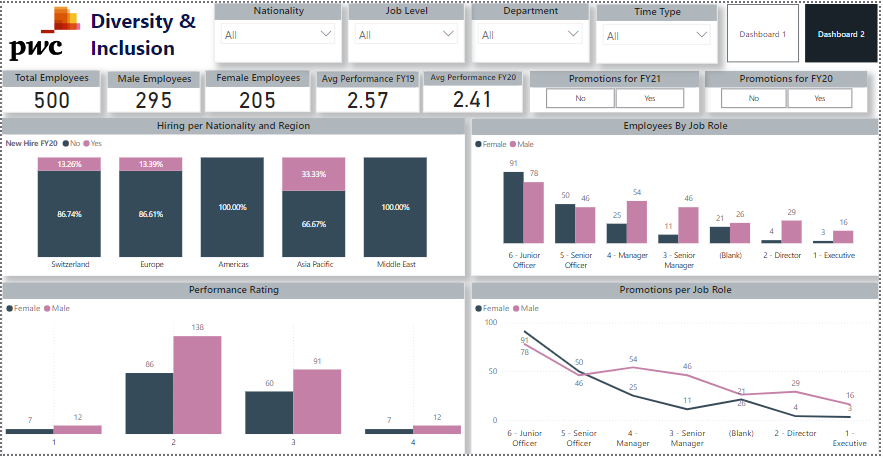

This screenshot's page, from the dashboard's own definition file:
{"tool":"powerbi","page":{"name":"Dashboard 2","canvas":[1400,720],"ordinal":1},"visuals":[{"type":"textbox","box":[135.4,0,187.2,97.9],"z":0},{"type":"image","box":[0,0,135.4,97.9],"z":1000},{"type":"card","title":"Total Employees","fields":{"Values":["CountNonNull(Pharma Group AG.Employee ID)"]},"box":[0,106.6,157,67.7],"z":2000},{"type":"card","title":"Male Employees","fields":{"Values":["Pharma Group AG.Male_Emp"]},"box":[167.8,108.3,149.5,65.6],"z":3000},{"type":"card","title":"Female Employees","fields":{"Values":["Pharma Group AG.Female_Emp"]},"box":[323.3,106.8,167.8,67.1],"z":4000},{"type":"card","title":"Avg Performance FY19","fields":{"Values":["Avg(Pharma Group AG.FY19 Performance Rating)"]},"box":[501.7,108.3,164.7,65.6],"z":6000},{"type":"card","title":"Avg Performance FY20","fields":{"Values":["Avg(Pharma Group AG.FY20 Performance Rating)"]},"box":[672.5,108.3,158.6,65.6],"z":7000},{"type":"slicer","title":"Promotions for FY20","fields":{"Values":["Pharma Group AG.Promotion in FY20?"]},"box":[1122.4,108.3,259.3,65.6],"z":8000},{"type":"slicer","title":"Promotions for FY21","fields":{"Values":["Pharma Group AG.Promotion in FY21"]},"box":[843.4,108.3,269.9,65.6],"z":9000},{"type":"slicer","title":"Department","fields":{"Values":["Pharma Group AG.Department"]},"box":[748.8,0,188.6,95],"z":10000},{"type":"slicer","title":"Nationality","fields":{"Values":["Pharma Group AG.Nationality 1"]},"box":[338.4,0,204.5,95],"z":11000},{"type":"slicer","title":"Job Level","fields":{"Values":["Pharma Group AG.Job Level after FY20 promotions"]},"box":[553,0,185.8,95],"z":12000},{"type":"slicer","title":"Time Type","fields":{"Values":["Pharma Group AG.Time type"]},"box":[947.5,1.4,194.4,95],"z":17000},{"type":"hundredPercentStackedColumnChart","title":"Hiring  per Nationality and Region","fields":{"Category":["Pharma Group AG.Region group"],"Y":["CountNonNull(Pharma Group AG.Nationality 1)"],"Series":["Pharma Group AG.New Hire FY20"]},"box":[0,182.9,738.7,252],"z":17001},{"type":"textbox","box":[0,550,586,170],"z":17002},{"type":"pageNavigator","box":[1157.8,1.4,241.9,93.6],"z":17003},{"type":"clusteredColumnChart","title":"Performance Rating","fields":{"Category":["Pharma Group AG.FY20 Performance Rating"],"Y":["CountNonNull(Pharma Group AG.Gender)"],"Series":["Pharma Group AG.Gender"]},"box":[0,445,738.7,275],"z":17004},{"type":"clusteredColumnChart","title":"Employees By Job Role","fields":{"Category":["Pharma Group AG.Job Level after FY21 promotions"],"Y":["CountNonNull(Pharma Group AG.Gender)"],"Series":["Pharma Group AG.Gender"]},"box":[748.8,182.9,650.9,252],"z":17005},{"type":"lineChart","title":"Promotions per Job Role","fields":{"Category":["Pharma Group AG.Job Level after FY21 promotions"],"Y":["CountNonNull(Pharma Group AG.Gender)"],"Series":["Pharma Group AG.Gender"]},"box":[748.8,445.3,651.2,274.5],"z":17006}]}

Visuals, with their boxes in screenshot pixels (x1, y1, x2, y2), scaled from the page's 1400x720 canvas onto the 883x457 screenshot:
textbox: 85:0:203:62
image: 0:0:85:62
"Total Employees" card: 0:68:99:111
"Male Employees" card: 106:69:200:110
"Female Employees" card: 204:68:310:110
"Avg Performance FY19" card: 316:69:420:110
"Avg Performance FY20" card: 424:69:524:110
"Promotions for FY20" slicer: 708:69:871:110
"Promotions for FY21" slicer: 532:69:702:110
"Department" slicer: 472:0:591:60
"Nationality" slicer: 213:0:342:60
"Job Level" slicer: 349:0:466:60
"Time Type" slicer: 598:1:720:61
"Hiring  per Nationality and Region" hundredPercentStackedColumnChart: 0:116:466:276
textbox: 0:349:370:456
pageNavigator: 730:1:882:60
"Performance Rating" clusteredColumnChart: 0:282:466:456
"Employees By Job Role" clusteredColumnChart: 472:116:882:276
"Promotions per Job Role" lineChart: 472:283:882:456
